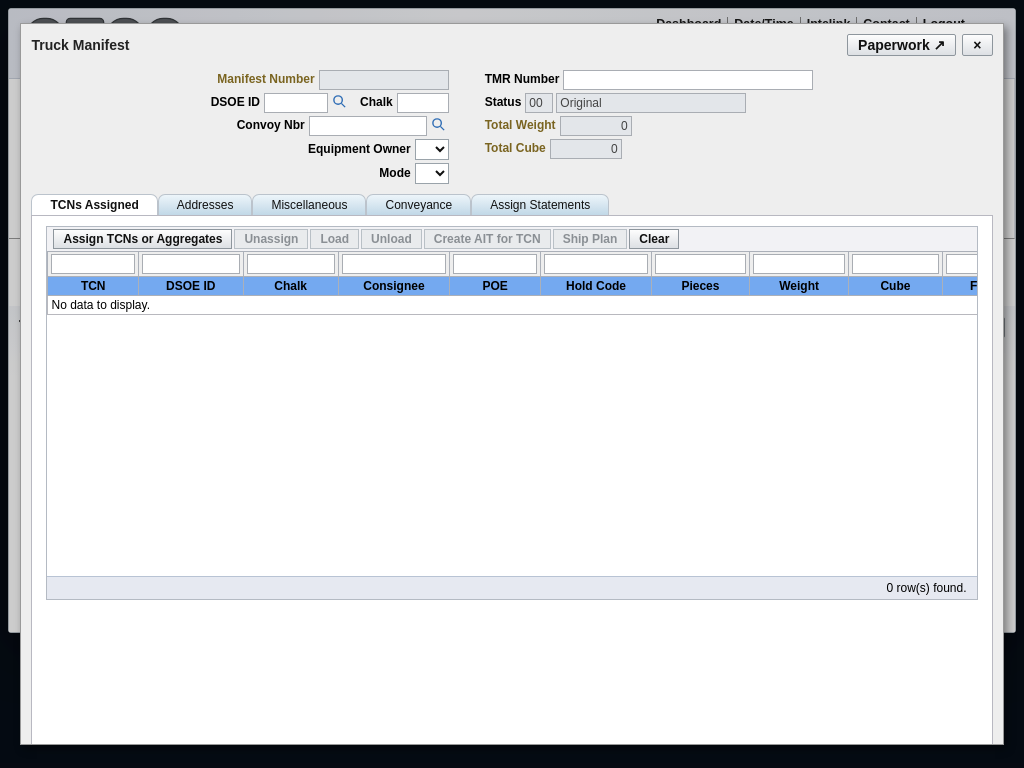
Test: Save and Close returns a movement record to its list without losing raw data
Type "PARTIAL" into the field named "Convoy Nbr".
click(368, 126); type("PARTIAL")  # box [309,116,427,136]
(page scrolled)
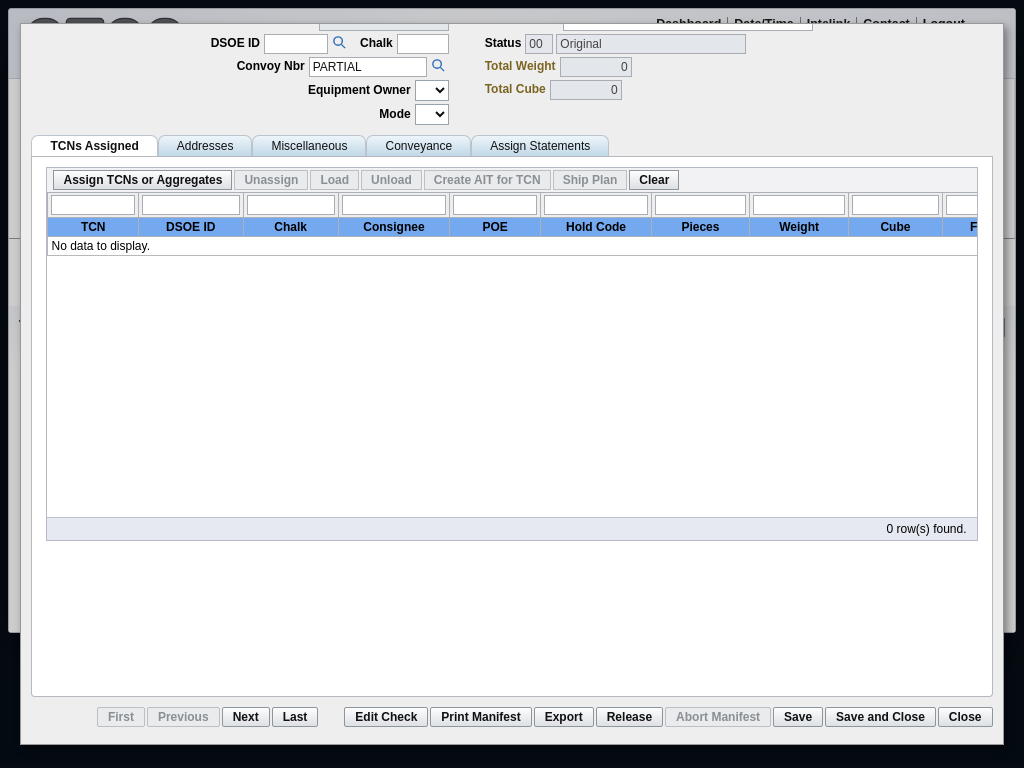
Click the button "Save and Close".
click(880, 717)  # box [825,707,936,727]
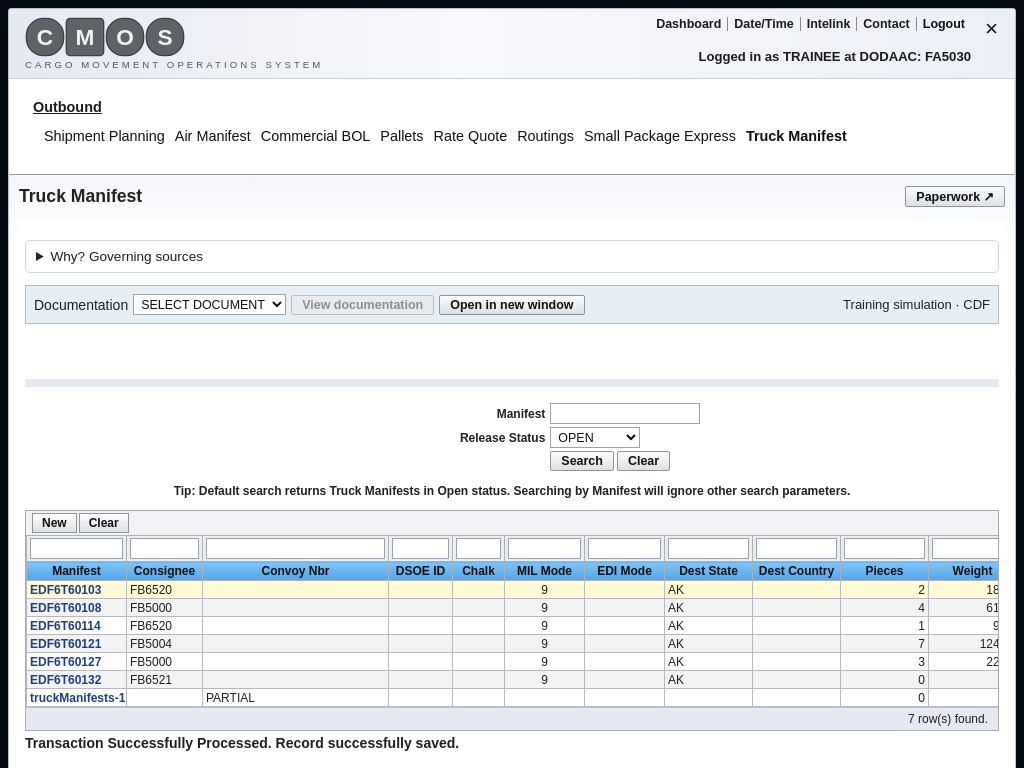
Click the button "truckManifests-1".
click(78, 698)  # box [30,691,125,705]
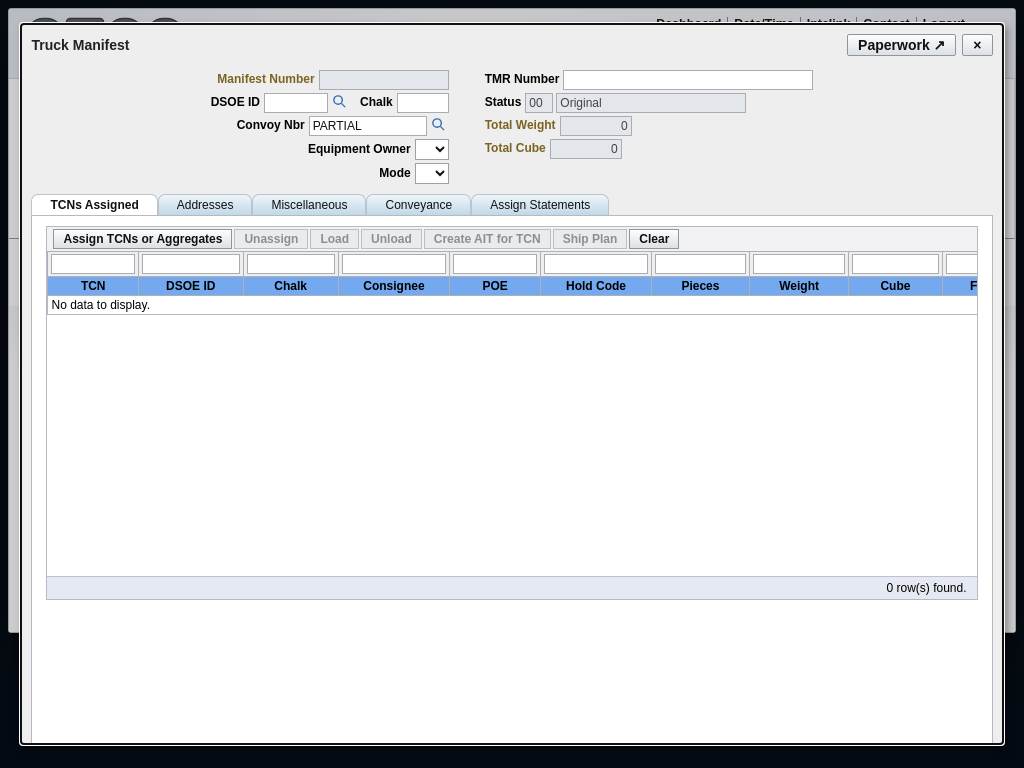
Check: the field named "Convoy Nbr" holds "PARTIAL", box [309,116,427,136]
